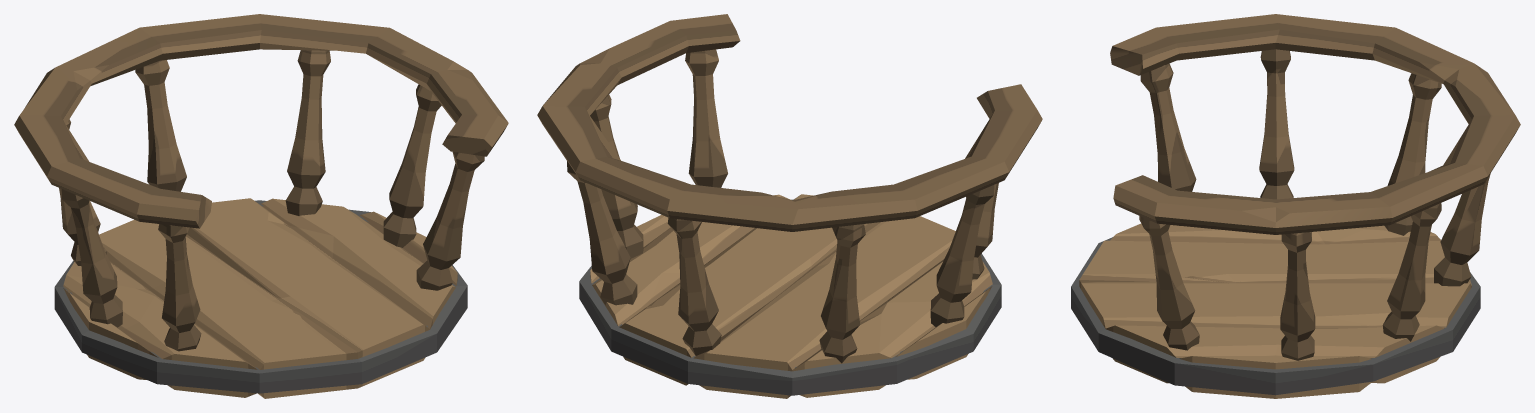
The model's file is SM_Prop_Crows_Nest_02.fbx.
3 renders of one model, left to right at view 1: azimuth 30°, elevation 25°; view 2: azimuth 150°, elevation 25°; view 3: azimuth 270°, elevation 25°, orthographic. The views are drawn at different scales.
Visible parts, largest first — view 1: SM_Prop_Crows_Nest_02; view 2: SM_Prop_Crows_Nest_02; view 3: SM_Prop_Crows_Nest_02.
Part boxes in pixels (x1,y1,x2,y2): SM_Prop_Crows_Nest_02: [14, 14, 508, 398]; SM_Prop_Crows_Nest_02: [537, 14, 1042, 398]; SM_Prop_Crows_Nest_02: [1071, 14, 1520, 398].
Bounding box in the file's own units: 270 × 125 × 247.
